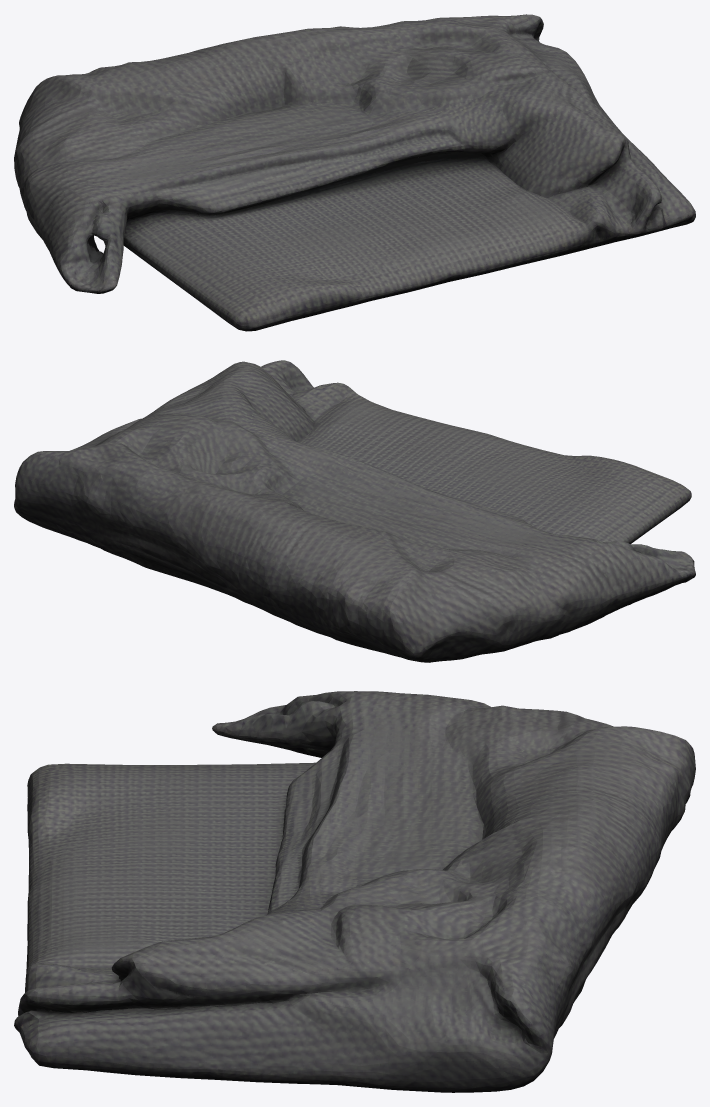
Rendered from Throw Blanket.glb.
3 renders of one model, top to bottom at view 1: azimuth 30°, elevation 25°; view 2: azimuth 150°, elevation 25°; view 3: azimuth 270°, elevation 25°, orthographic. The views are drawn at different scales.
Parts seen in each view (by area): view 1: world; view 2: world; view 3: world.
Boxes of the visible parts, bbox=[...] form: world: bbox=[14, 14, 695, 331]; world: bbox=[14, 360, 695, 662]; world: bbox=[14, 691, 695, 1092].
Size of the model in its own units: 0.9998 by 0.1561 by 0.7792.
1 material, 1 textured.
